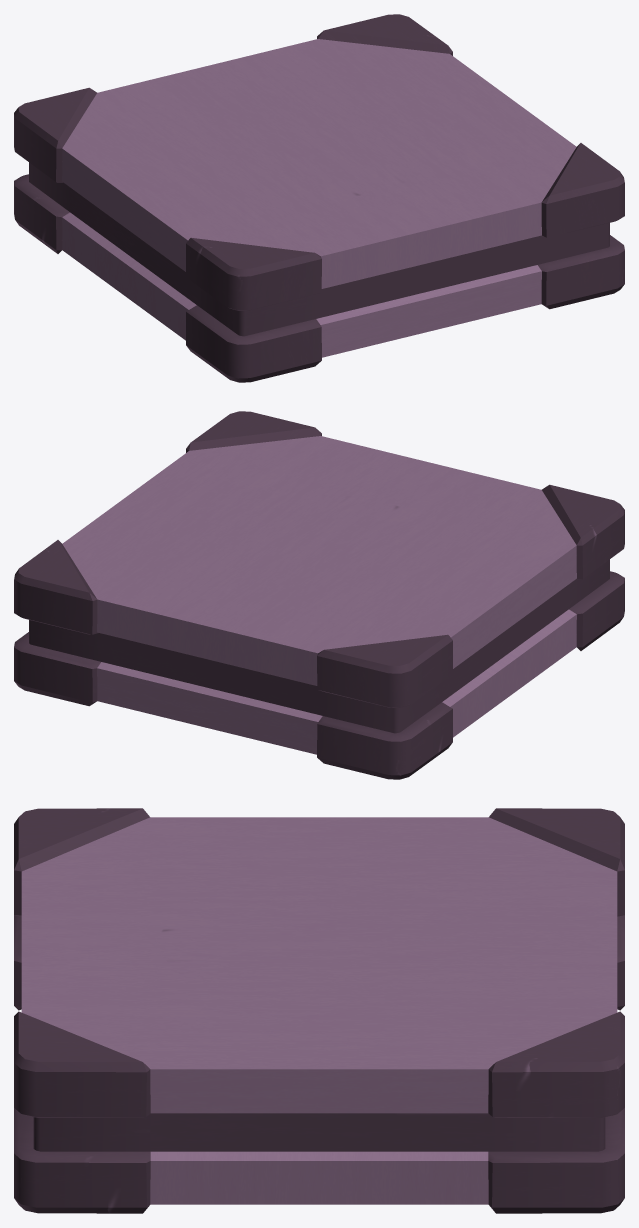
The model's file is metal.glb.
The picture shows the model from 3 angles, top to bottom: view 1: azimuth 30°, elevation 25°; view 2: azimuth 150°, elevation 25°; view 3: azimuth 270°, elevation 25°; orthographic projection. The views are drawn at different scales.
Visible parts, largest first — view 1: metal; view 2: metal; view 3: metal.
Part boxes in pixels (x1,y1,x2,y2): metal: (14,14,624,382); metal: (14,411,624,779); metal: (14,808,624,1213).
Bounding box in the file's own units: 0.1619 × 0.0443 × 0.1619.
1 material, 1 textured.
